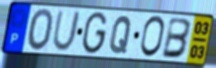B: (160, 16, 193, 60)
G: (80, 11, 109, 56)
O: (26, 7, 55, 53), (138, 15, 166, 60)
Q: (108, 14, 133, 55)
U: (51, 10, 83, 53)
